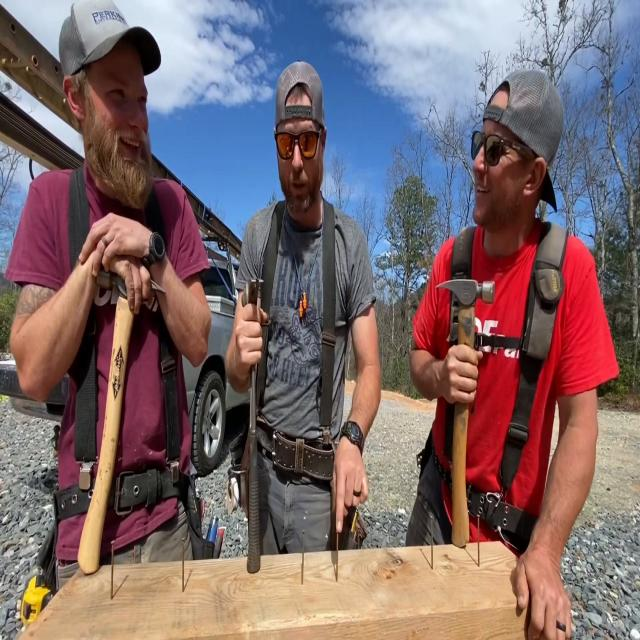hammer: (78, 261, 165, 573), (436, 281, 494, 547), (242, 278, 265, 573)
